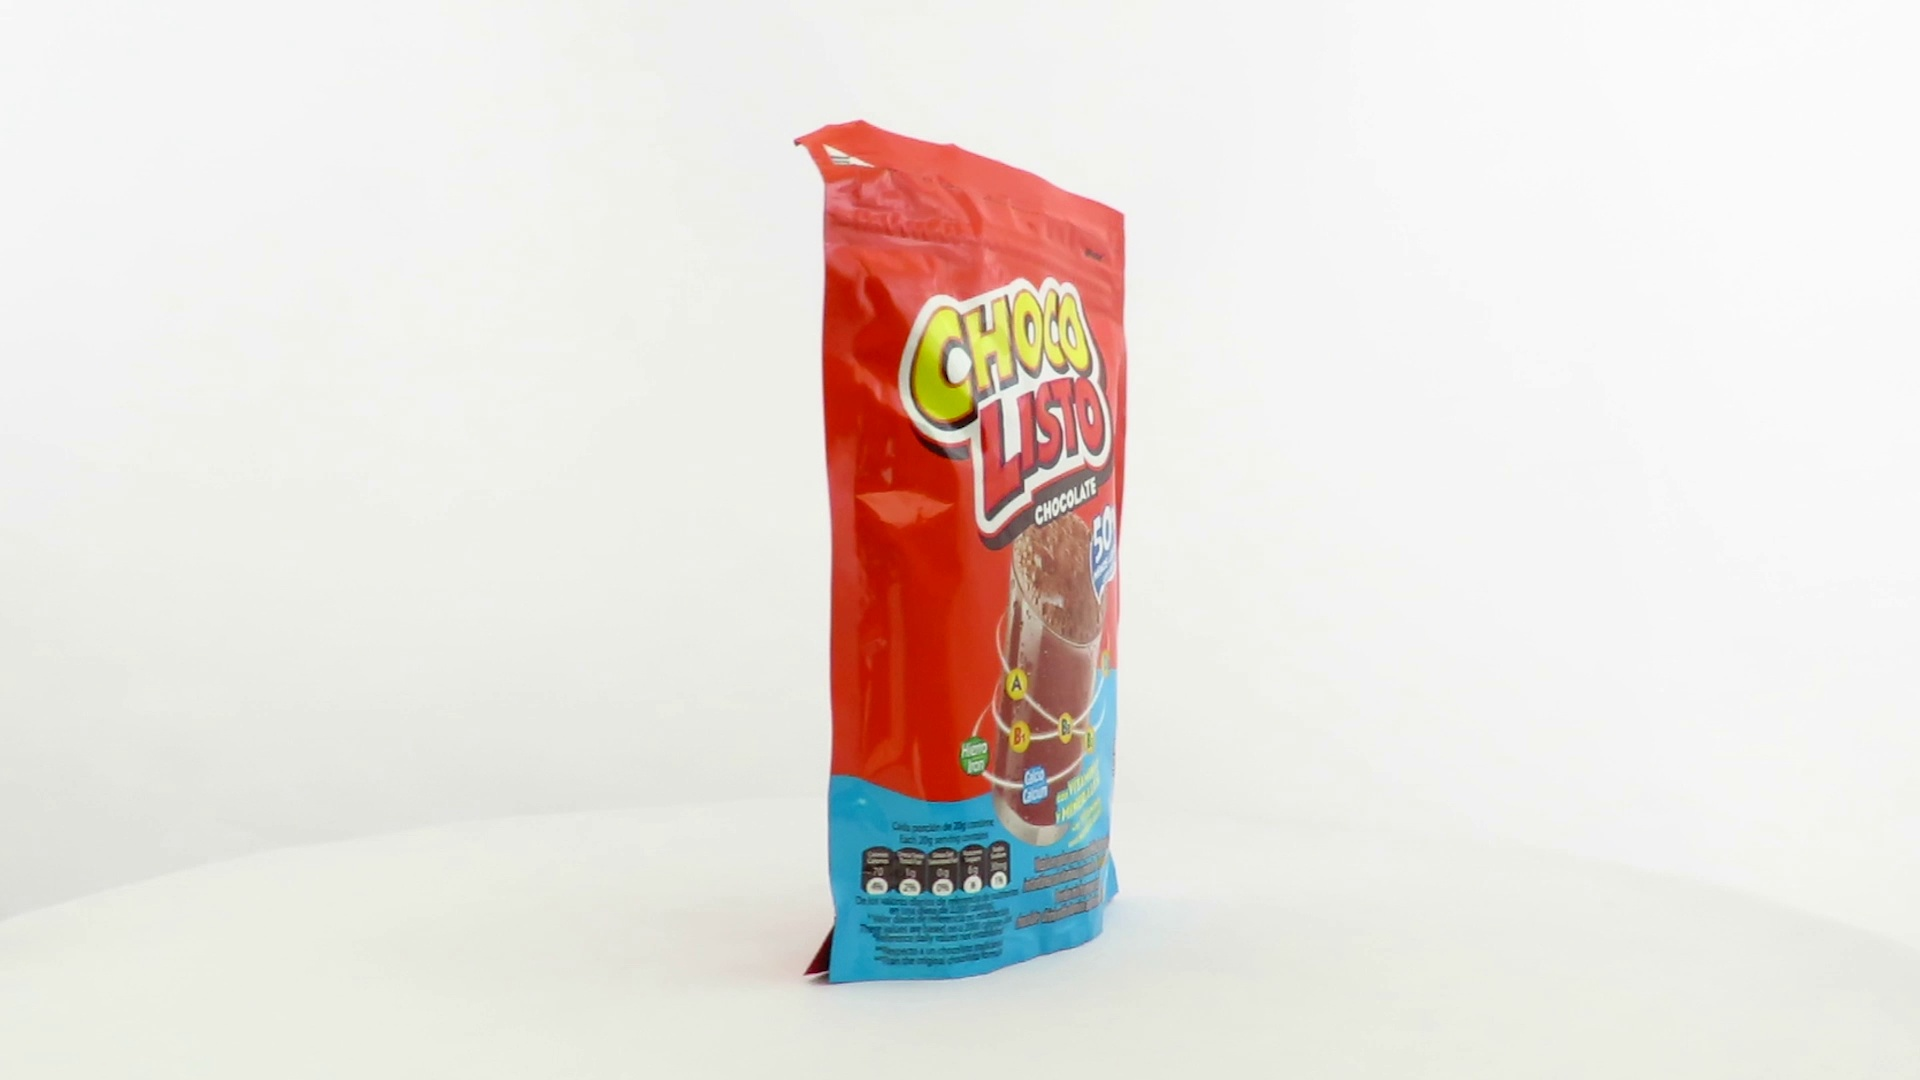COL0170104DYP20000: (789, 115, 1133, 992)
